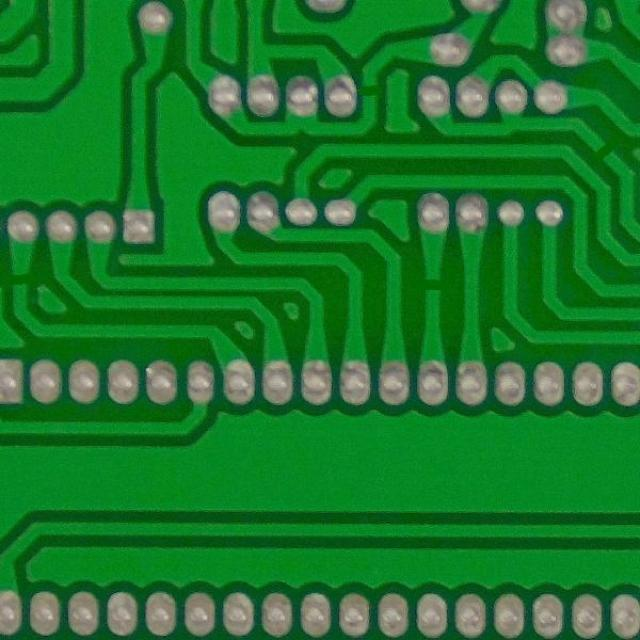Open_Circuit: (414, 266, 452, 308), (584, 132, 623, 169), (4, 261, 38, 298), (356, 76, 386, 106)
